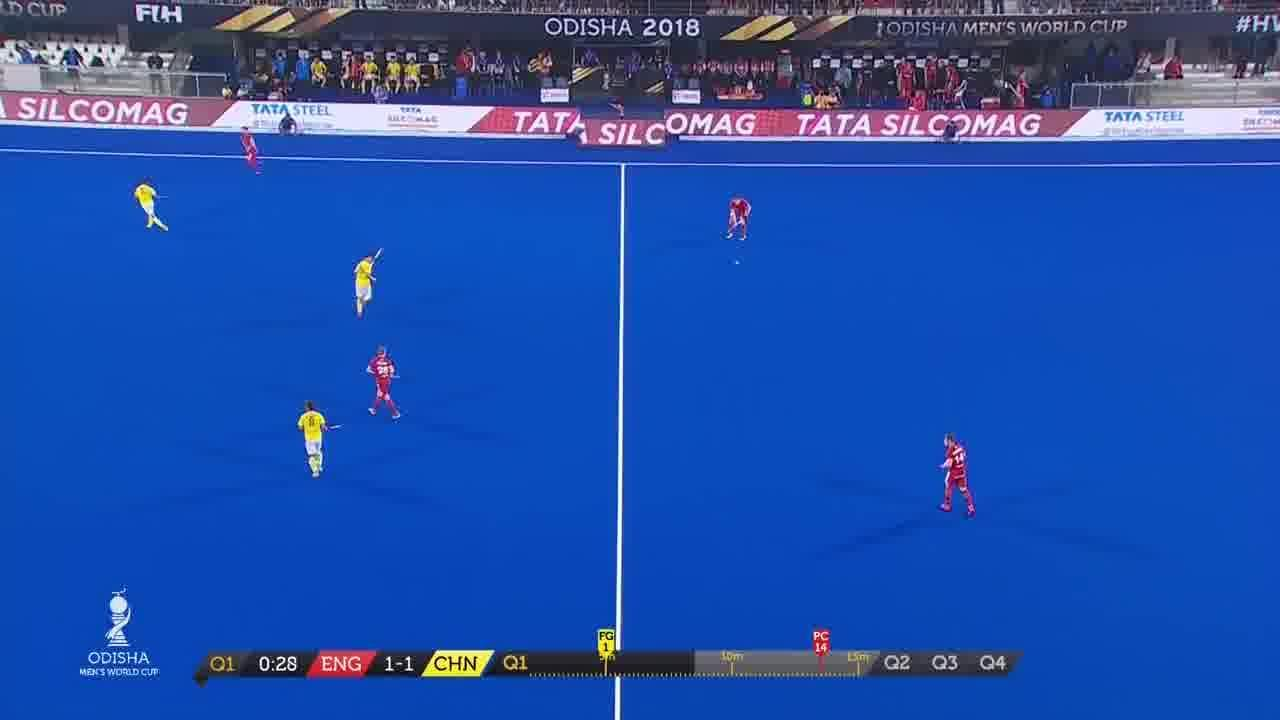ball: (725, 258, 744, 266)
